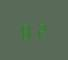eight: (19, 20, 33, 40)
two: (34, 19, 48, 39)
